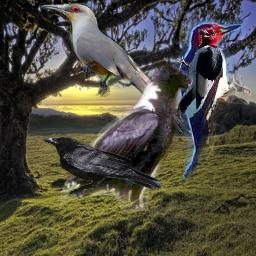Crow: (60, 60, 195, 211), (42, 136, 162, 197)
Cuckoo: (40, 2, 193, 137)
Woodpecker: (164, 12, 251, 180), (173, 22, 223, 121)
